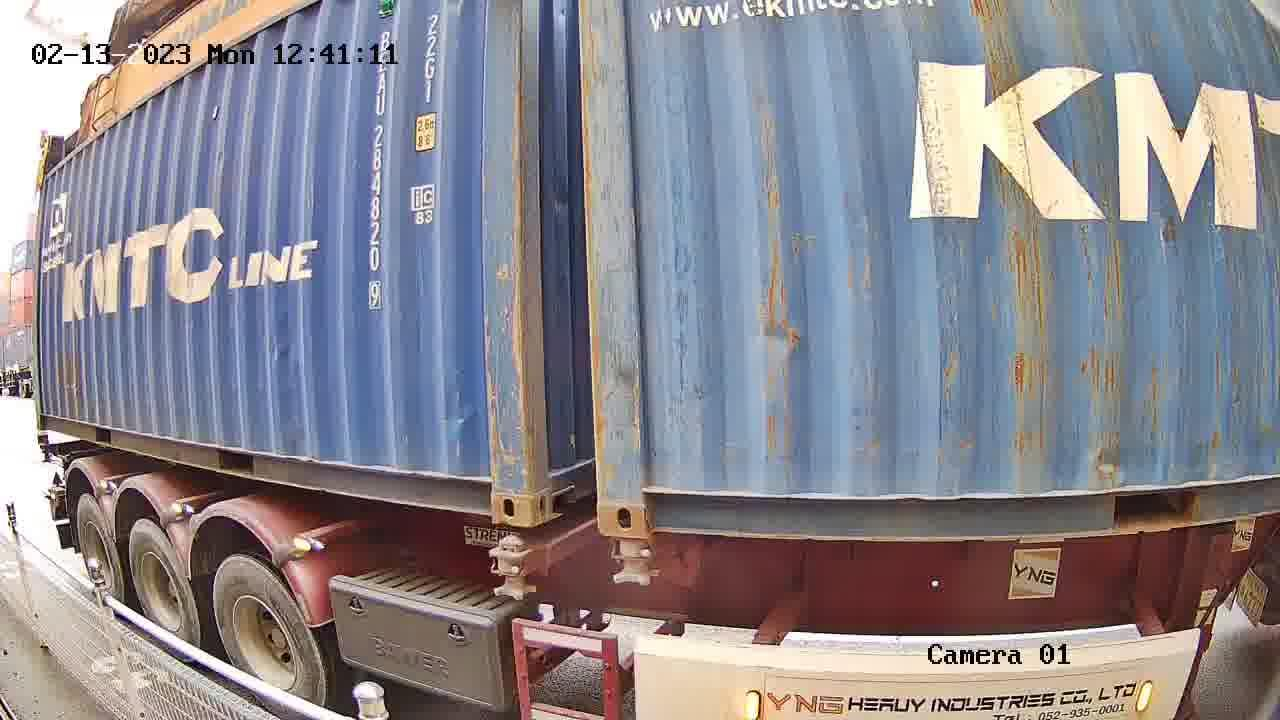Cone: (488, 536, 539, 603), (607, 537, 659, 588)
Hole_L: (596, 458, 683, 536), (528, 440, 583, 525)
Hole_R: (452, 447, 528, 526)
Tire: (213, 559, 325, 719), (127, 522, 199, 661), (76, 497, 123, 606)
